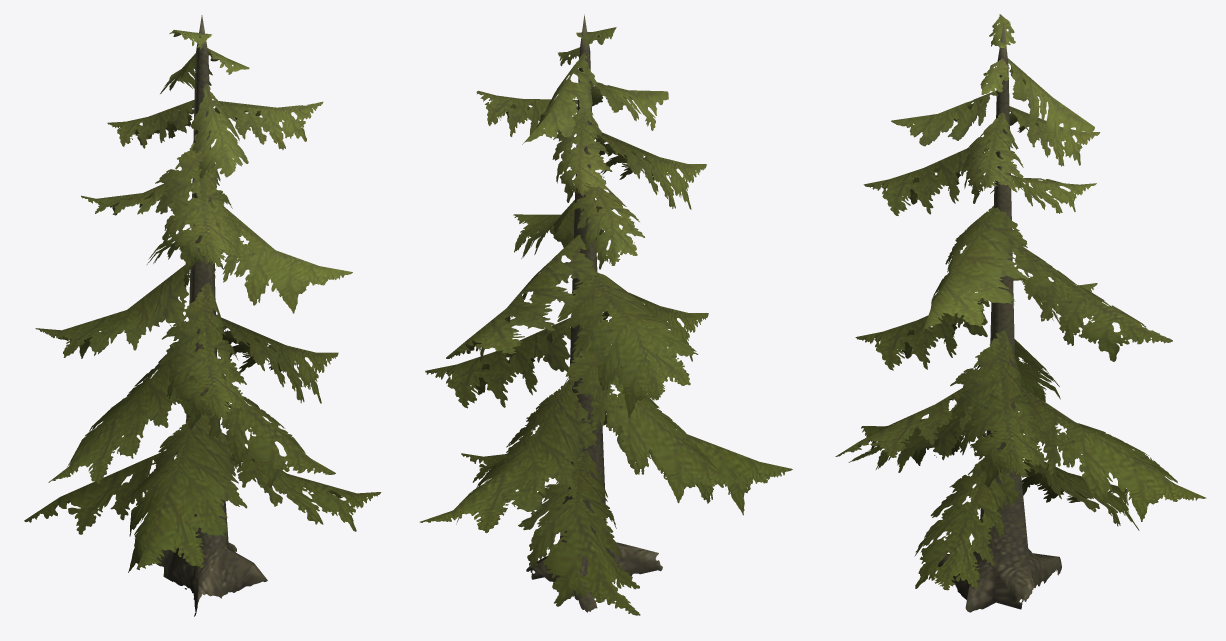
Rendered from Tree01.FBX.
3 renders of one model, left to right at view 1: azimuth 30°, elevation 25°; view 2: azimuth 150°, elevation 25°; view 3: azimuth 270°, elevation 25°, orthographic.
Visible parts, largest first — view 1: Tree01; view 2: Tree01; view 3: Tree01.
Boxes of the visible parts, x1,y1,x2,y2 form: Tree01: [24, 15, 381, 616]; Tree01: [420, 14, 792, 615]; Tree01: [835, 14, 1206, 612].
Size of the model in its own units: 2.35 by 2.48 by 4.09.
Materials: 1 (1 with a texture image).
